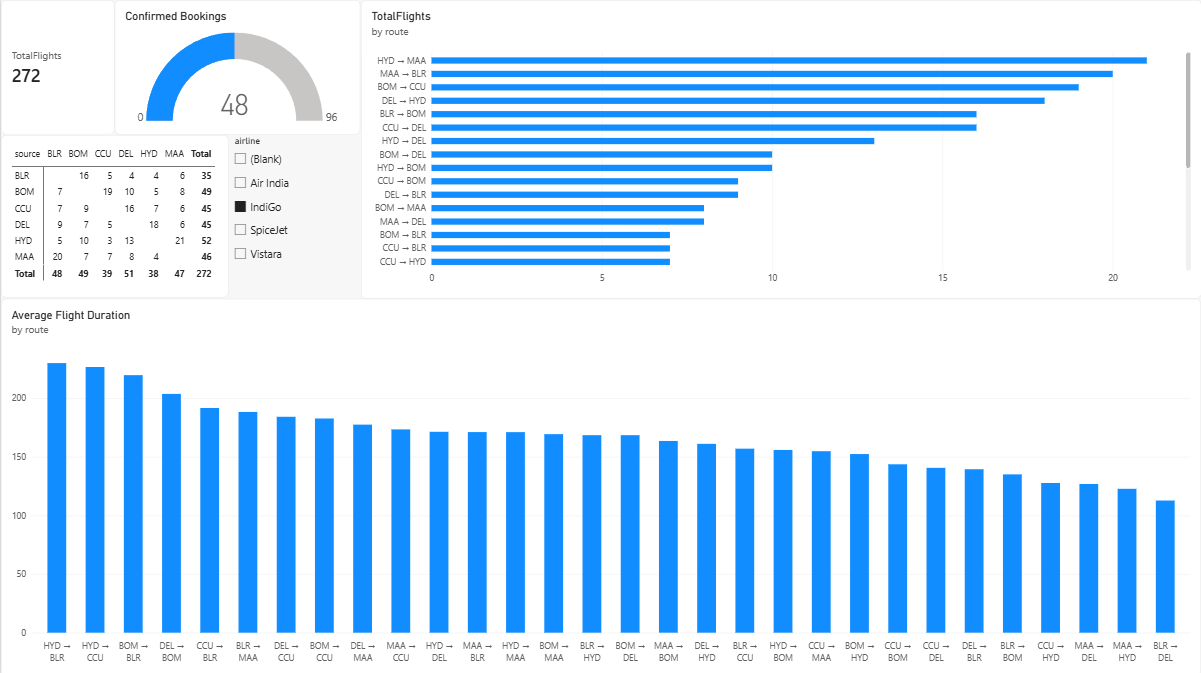

What the dashboard file says about the page in this screenshot:
{"tool":"powerbi","page":{"name":"Route Performance","canvas":[1920,1080],"ordinal":2},"visuals":[{"type":"clusteredBarChart","fields":{"Category":["flights.route"],"Y":["bookings.TotalFlights"]},"box":[575,0,1345,477.5],"z":0},{"type":"clusteredColumnChart","fields":{"Category":["flights.route"],"Y":["bookings.Average Flight Duration"]},"box":[0,477.5,1920,602.5],"z":1000},{"type":"pivotTable","fields":{"Columns":["flights.destination"],"Rows":["flights.source"],"Values":["bookings.TotalFlights"]},"box":[0,216,364,260],"z":2000},{"type":"cardVisual","fields":{"Data":["bookings.TotalFlights"]},"box":[0,0,182.5,215],"z":3000},{"type":"slicer","fields":{"Values":["flights.airline"]},"box":[365,215,210,262.5],"z":4000},{"type":"gauge","fields":{"Y":["bookings.Confirmed Bookings"]},"box":[182.5,0,392.5,215],"z":4001}]}

Visuals, with their boxes in screenshot pixels (x1, y1, x2, y2), scaled from the page's 1920x1080 canvas onto the 1201x673 screenshot:
clusteredBarChart - flights.route x bookings.TotalFlights: detection(360, 0, 1200, 298)
clusteredColumnChart - flights.route x bookings.Average Flight Duration: detection(0, 298, 1200, 672)
pivotTable - flights.destination x flights.source: detection(0, 135, 228, 297)
cardVisual - bookings.TotalFlights: detection(0, 0, 114, 134)
slicer - flights.airline: detection(228, 134, 360, 298)
gauge - bookings.Confirmed Bookings: detection(114, 0, 360, 134)
